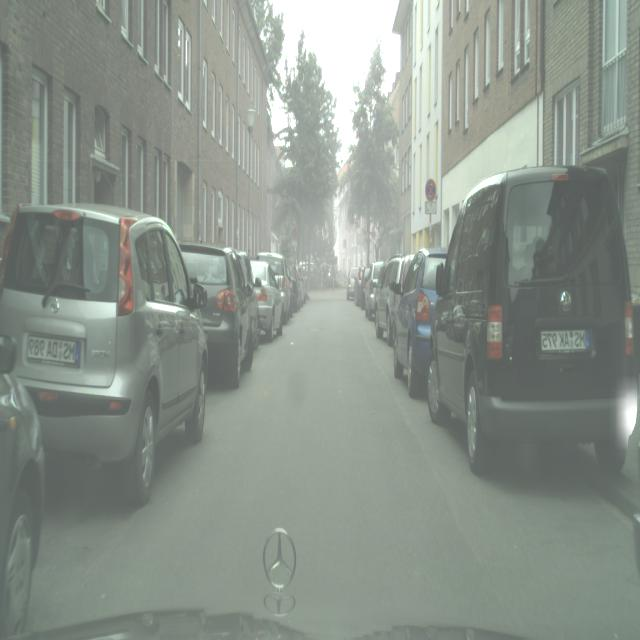truck: (426, 164, 638, 477), (1, 202, 210, 506), (0, 334, 47, 632), (179, 242, 259, 388), (392, 246, 447, 398), (374, 254, 412, 344), (254, 250, 295, 321), (250, 258, 284, 342), (235, 250, 260, 348), (364, 260, 386, 321), (354, 264, 372, 309), (346, 268, 357, 301)
